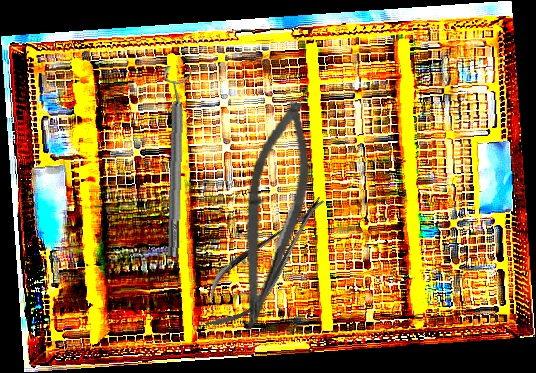Fixation Ring: (156, 66, 194, 257)
Micro Scissor: (186, 182, 343, 343), (229, 97, 321, 336)
